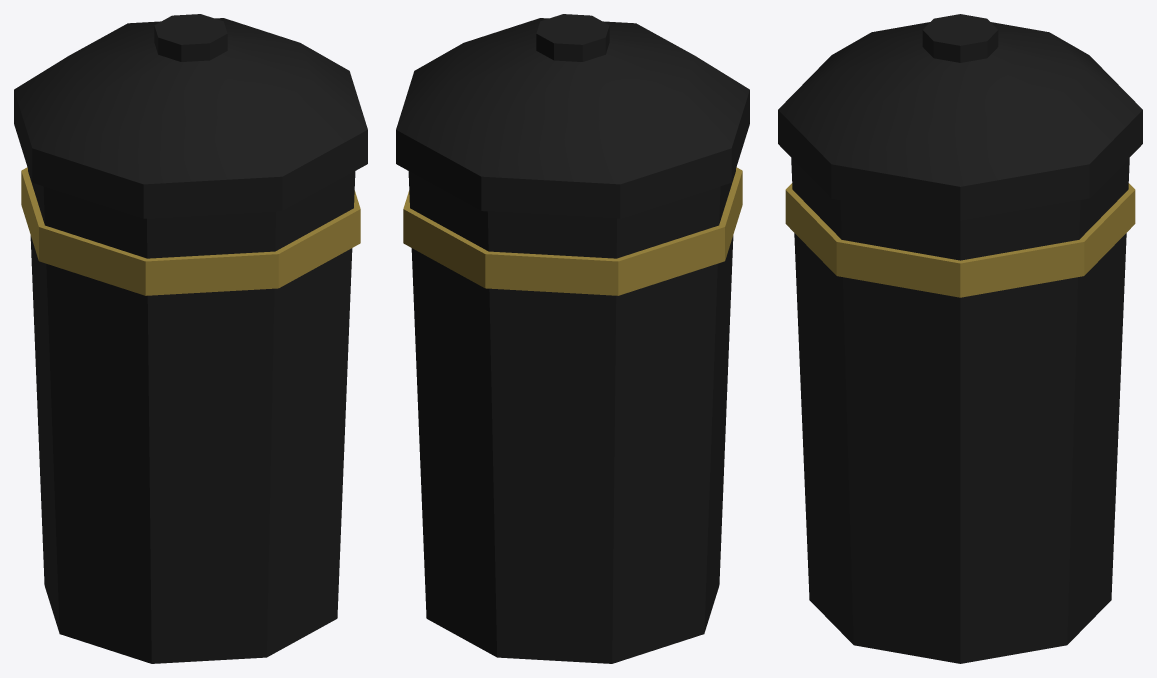
File: SM_Prop_litter_bin_1_LOD1.glb
The picture shows the model from 3 angles, left to right: view 1: azimuth 30°, elevation 25°; view 2: azimuth 150°, elevation 25°; view 3: azimuth 270°, elevation 25°; orthographic projection.
Visible parts, largest first — view 1: SM_Prop_litter_bin_1_LOD1; view 2: SM_Prop_litter_bin_1_LOD1; view 3: SM_Prop_litter_bin_1_LOD1.
Boxes of the visible parts, x1,y1,x2,y2 form: SM_Prop_litter_bin_1_LOD1: (14, 14, 367, 663); SM_Prop_litter_bin_1_LOD1: (396, 14, 749, 663); SM_Prop_litter_bin_1_LOD1: (778, 14, 1142, 663).
Bounding box in the file's own units: 0.58 × 1 × 0.58.
